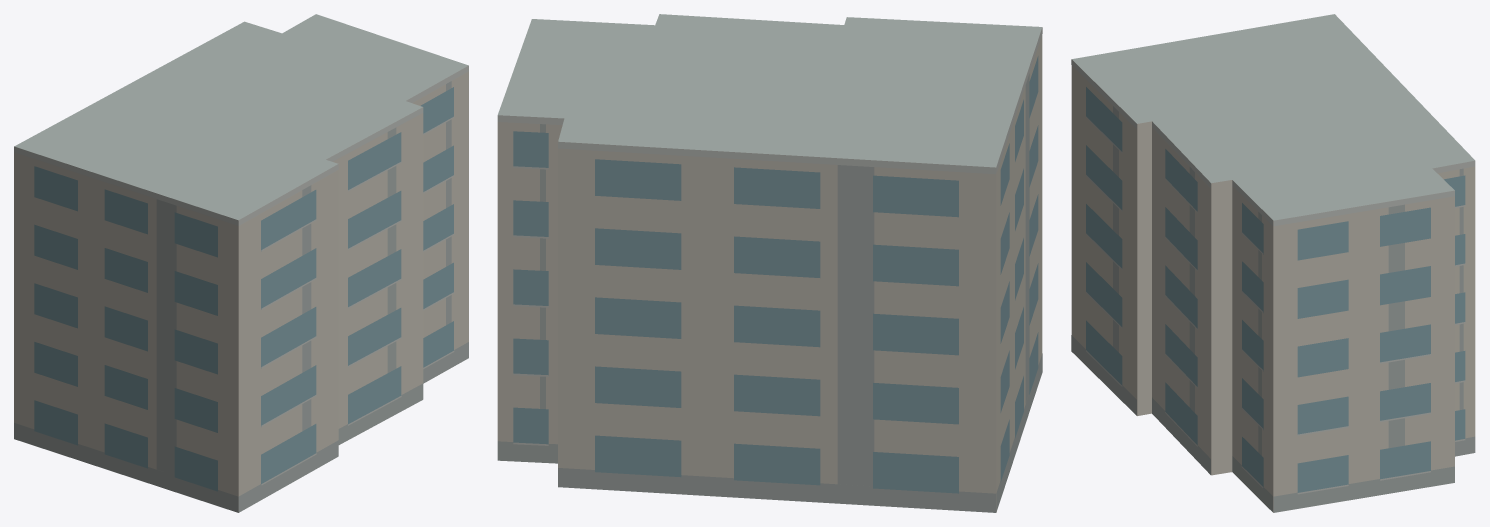
The model's file is survey-upis-32950804.glb.
The picture shows the model from 3 angles, left to right: view 1: azimuth 30°, elevation 25°; view 2: azimuth 150°, elevation 25°; view 3: azimuth 270°, elevation 25°; orthographic projection. The views are drawn at different scales.
Visible parts, largest first — view 1: survey-upis-32950804.tmp; view 2: survey-upis-32950804.tmp; view 3: survey-upis-32950804.tmp.
Part boxes in pixels (x1,y1,x2,y2): survey-upis-32950804.tmp: [14, 14, 468, 512]; survey-upis-32950804.tmp: [497, 14, 1042, 512]; survey-upis-32950804.tmp: [1071, 14, 1475, 512].
Bounding box in the file's own units: 18.82 × 12.4 × 15.54.
